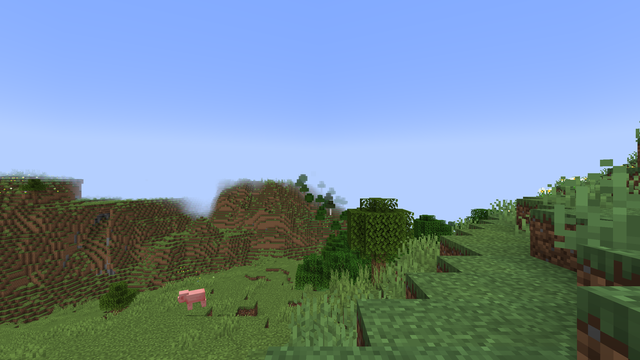cochons: (184, 288, 206, 309)
